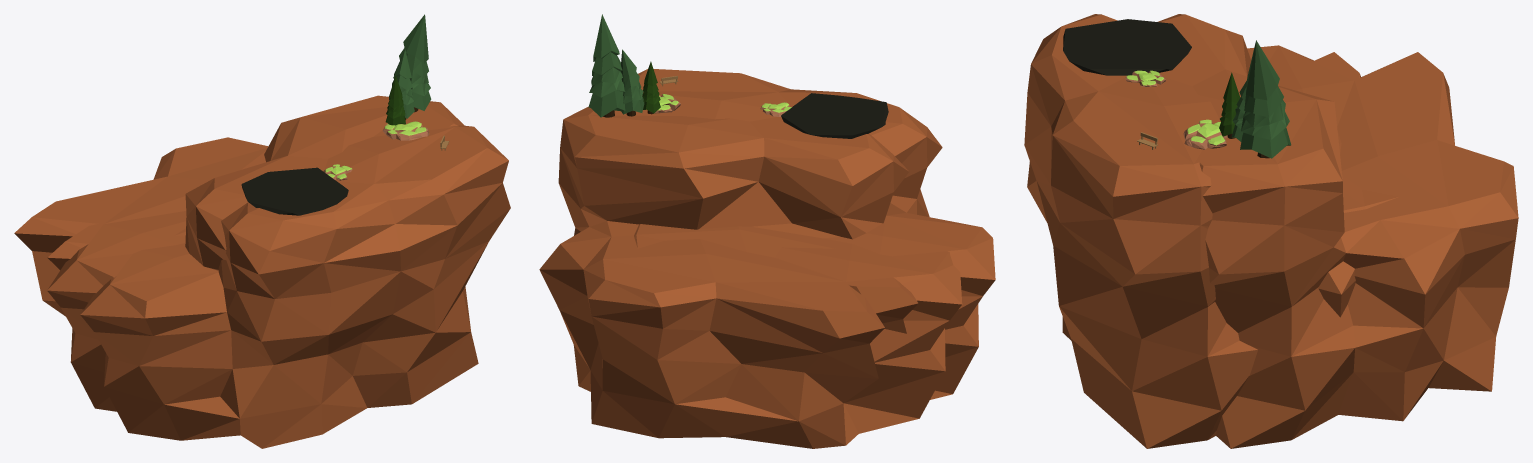
File: nav_area.glb
The picture shows the model from 3 angles, left to right: view 1: azimuth 30°, elevation 25°; view 2: azimuth 150°, elevation 25°; view 3: azimuth 270°, elevation 25°; orthographic projection. The views are drawn at different scales.
Visible parts, largest first — view 1: cliff-col, parking circle-col, cliff trees-convcol, rock pile 1-convcol; view 2: cliff-col, cliff trees-convcol, parking circle-col; view 3: cliff-col, parking circle-col, cliff trees-convcol, rock pile 1-convcol, rock pile 2-convcol.
Boxes of the visible parts, x1,y1,x2,y2 form: cliff-col: [14, 95, 510, 448]; parking circle-col: [241, 167, 348, 215]; cliff trees-convcol: [385, 14, 431, 125]; rock pile 1-convcol: [383, 121, 429, 140]; cliff-col: [539, 69, 995, 448]; cliff trees-convcol: [588, 14, 660, 117]; parking circle-col: [781, 93, 888, 138]; cliff-col: [1024, 14, 1518, 448]; parking circle-col: [1063, 19, 1191, 75]; cliff trees-convcol: [1219, 40, 1291, 158]; rock pile 1-convcol: [1183, 119, 1227, 149]; rock pile 2-convcol: [1125, 70, 1165, 86].
Size of what is drawn, in the model's own units: 70.49 by 53.07 by 59.02.
12 materials, 2 textured.
